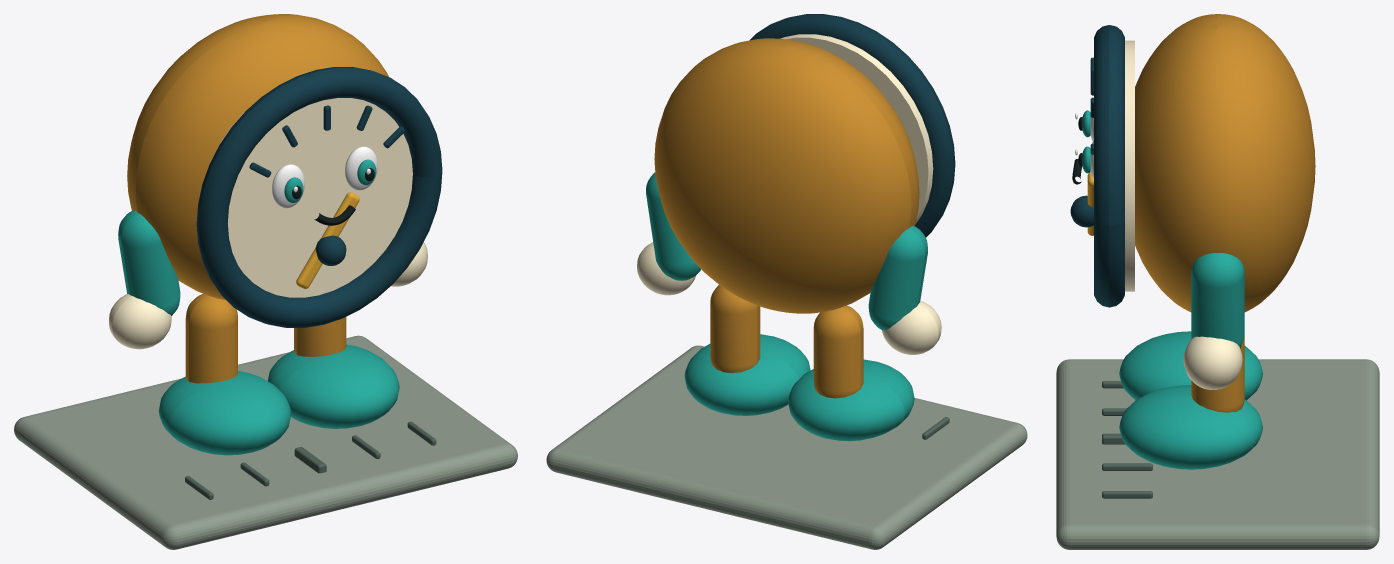
Rendered from measurelands-gaugekin.glb.
3 renders of one model, left to right at view 1: azimuth 30°, elevation 25°; view 2: azimuth 150°, elevation 25°; view 3: azimuth 270°, elevation 25°, orthographic. The views are drawn at different scales.
Visible parts, largest first — view 1: Gaugekin; view 2: Gaugekin; view 3: Gaugekin.
Part boxes in pixels (x1,y1,x2,y2): Gaugekin: [14, 14, 517, 549]; Gaugekin: [546, 14, 1027, 549]; Gaugekin: [1056, 14, 1379, 549].
Size of the model in its own units: 3.4 by 3.97 by 2.65.
